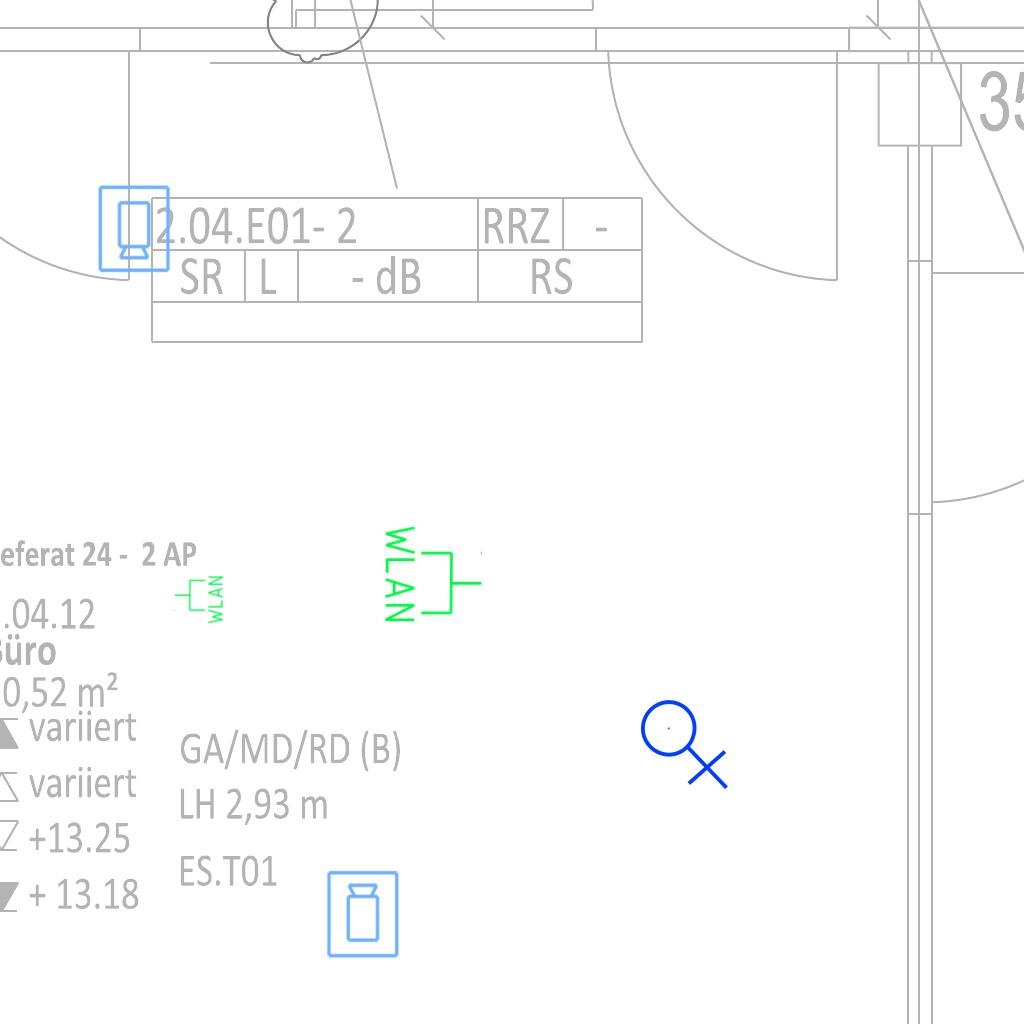Elektroanschluss_allgemein_230V_Geraeteanschlussdose_230V: (639, 691, 733, 790)
KFO_Kamera_mit_Festobjektiv: (325, 869, 402, 960), (95, 183, 172, 274)
WLAN: (381, 521, 485, 626), (173, 574, 225, 626)
